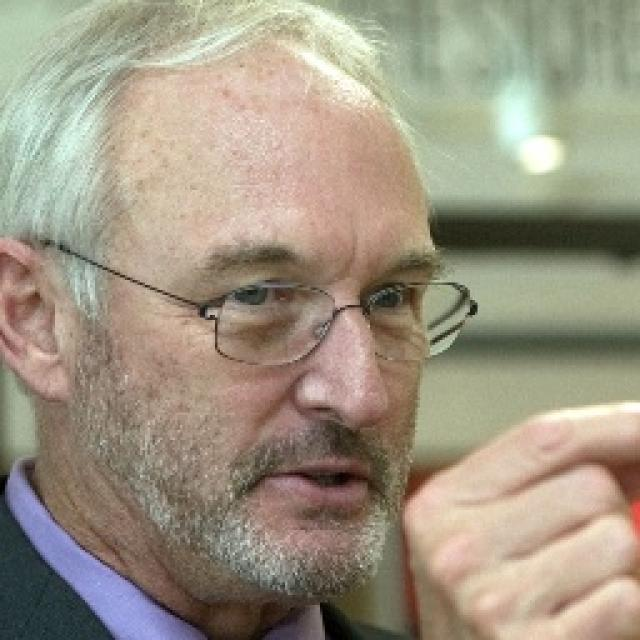earlobe: (16, 362, 74, 406)
eye: (222, 280, 292, 310), (372, 286, 412, 312)
nose: (296, 400, 385, 450)
wholeear: (0, 233, 70, 403)
